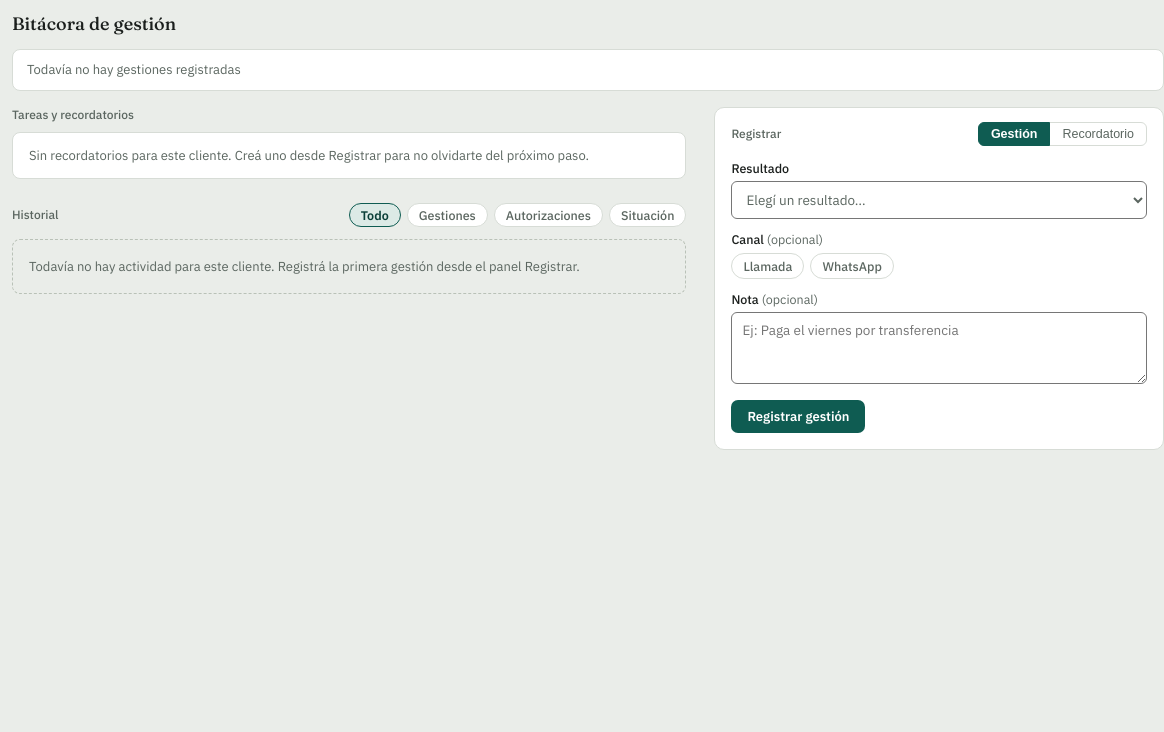
Test: Gestión con 'Pago coordinado' y cobranza_programada › un error del backend (400) se muestra y los campos conservan lo escrito
expect the button "Registrar gestión" is shown: met, box 731,400 -> 866,432
Select "Pago coordinado" in the dropdown labelled "Resultado". click: point(939, 200)
box: 731,180 -> 1147,218
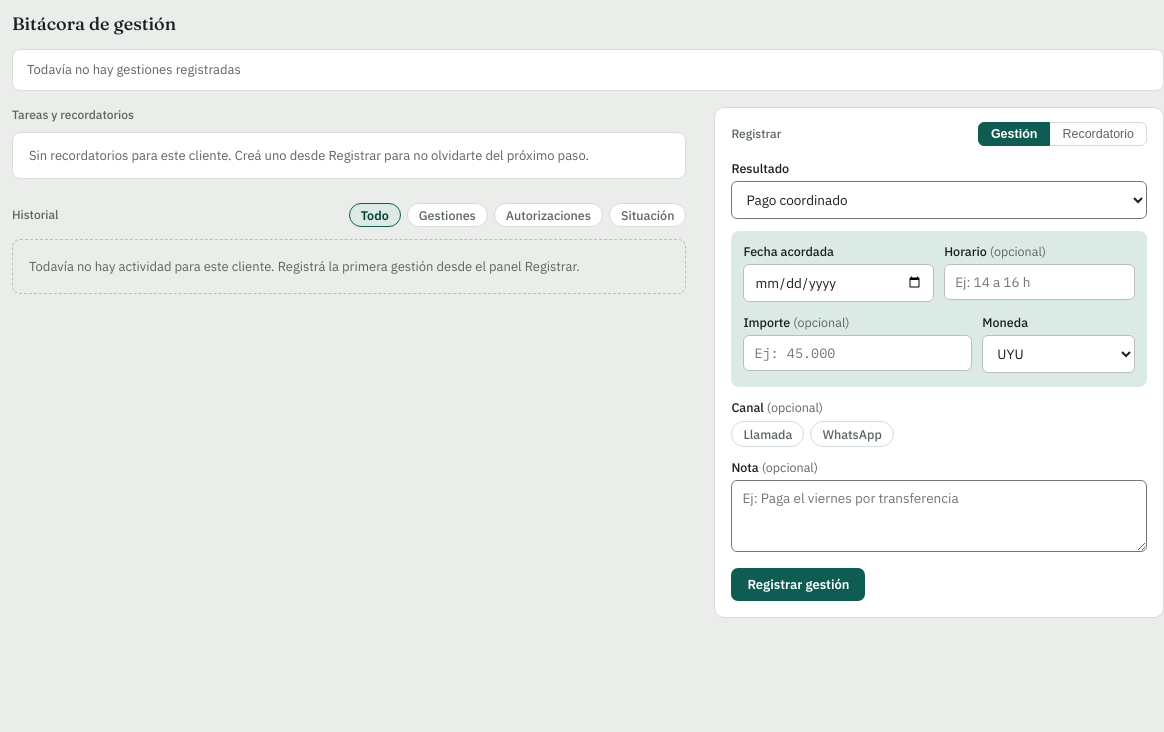
Type "2026-10-20" into the date field labelled "Fecha acordada". click: point(839, 282)
box: 743,264 -> 934,302
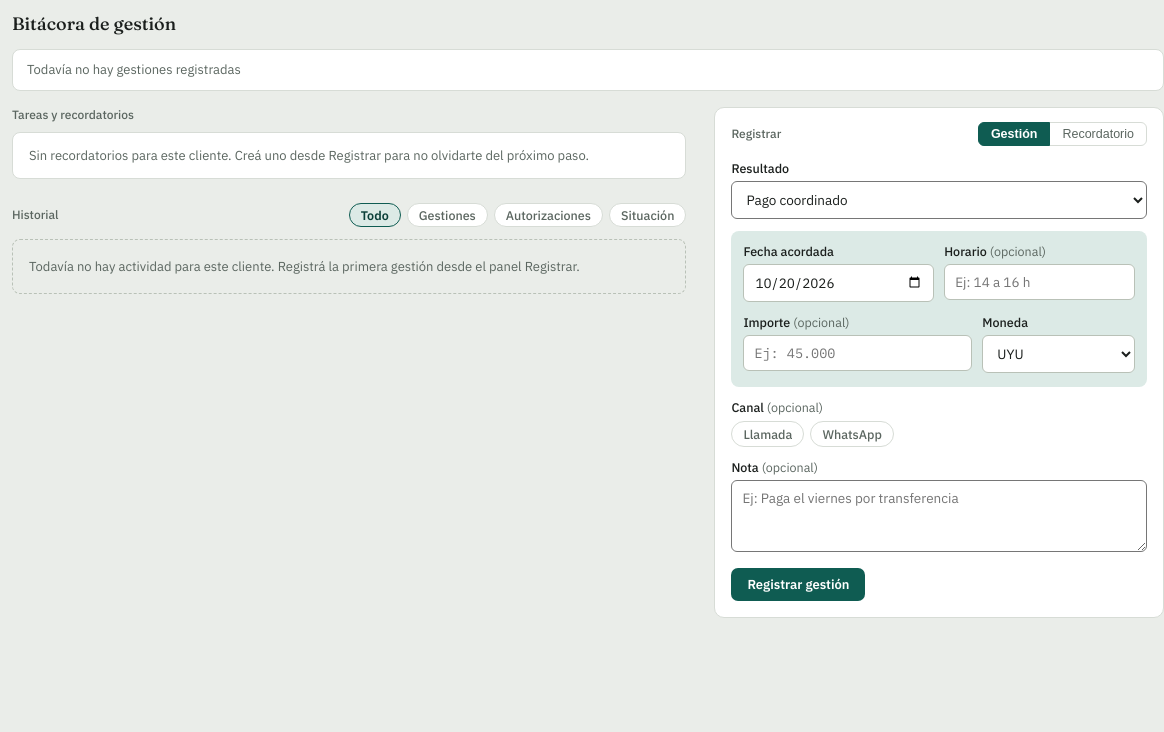
Click the button "Registrar gestión". click: point(798, 584)
box: 731,568 -> 866,600
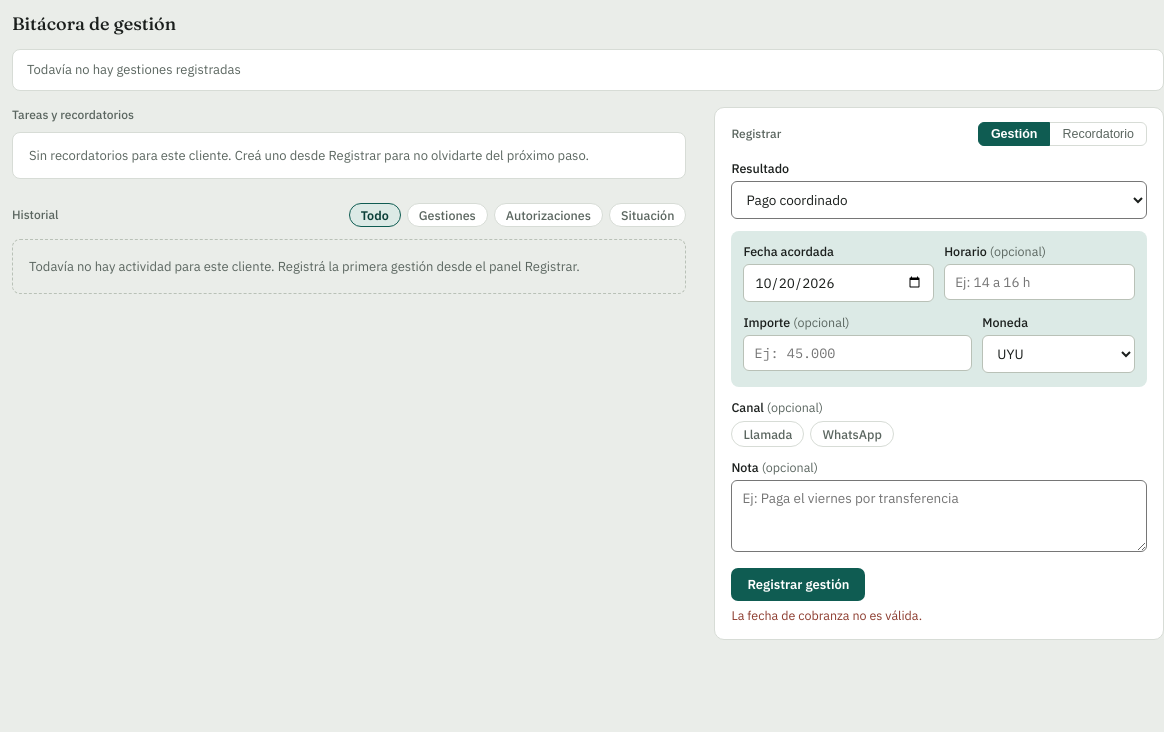
expect the text "La fecha de cobranza no es válida." is shown: met, box 731,606 -> 922,622
